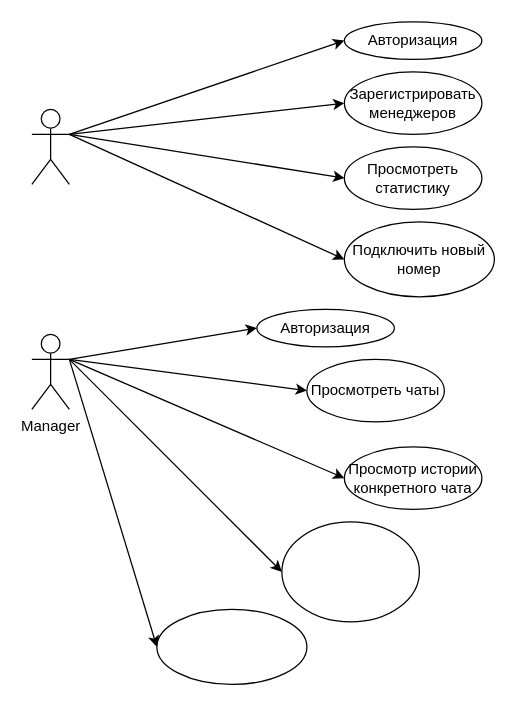
Image size: 516x706. Some labels were removed from this diagram. The shapes that lost their labels are listed below. From the top down, each one's centre as x and y in pixels, then its label:
At [50,146]: "Admin".
At [350,571]: "Написать сообщение в конкретном чате".
At [231,646]: "Написать первое сообщение по номеру".
